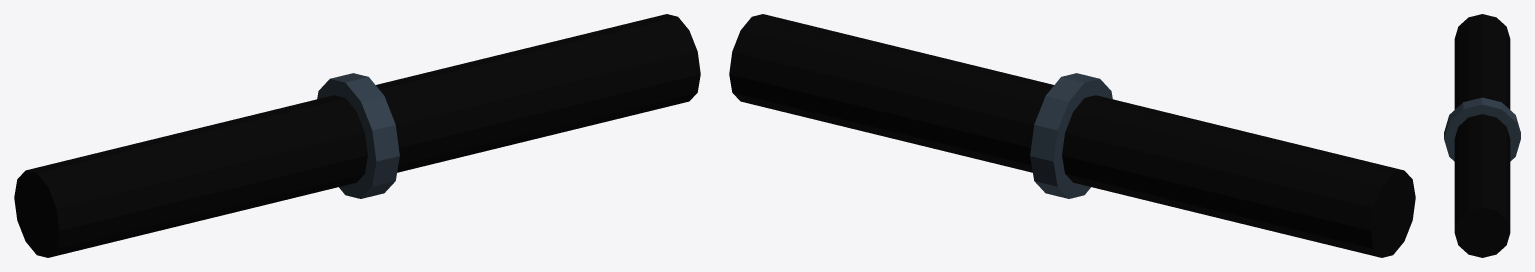
The model's file is Roof_Object2_JP_Tiles.fbx.
3 renders of one model, left to right at view 1: azimuth 30°, elevation 25°; view 2: azimuth 150°, elevation 25°; view 3: azimuth 270°, elevation 25°, orthographic. The views are drawn at different scales.
Parts seen in each view (by area): view 1: Roof_Object2_JP_Tiles_LOD0; view 2: Roof_Object2_JP_Tiles_LOD0; view 3: Roof_Object2_JP_Tiles_LOD0.
Part boxes in pixels (<box>): Roof_Object2_JP_Tiles_LOD0: <box>14,14,700,257</box>; Roof_Object2_JP_Tiles_LOD0: <box>729,14,1415,257</box>; Roof_Object2_JP_Tiles_LOD0: <box>1444,14,1520,257</box>.
Size of what is drawn, in the model's own units: 663 by 111 by 111.
